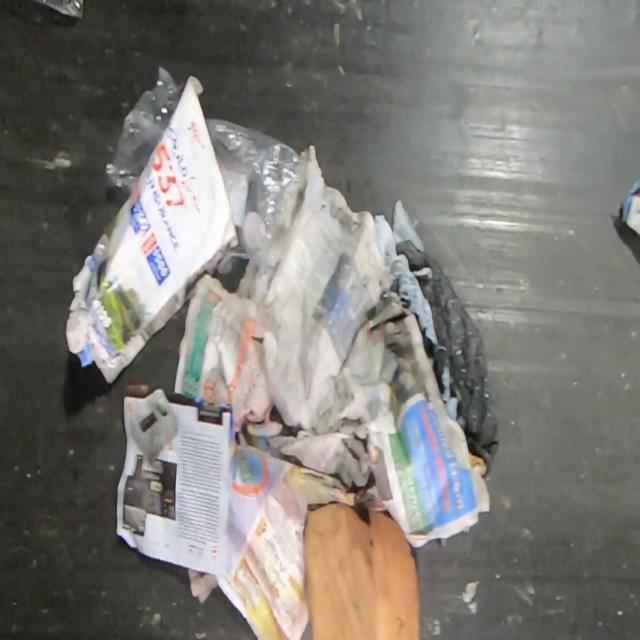cardboard: (64, 75, 246, 384), (303, 502, 421, 640)
soft_plastic: (396, 239, 499, 478), (204, 118, 304, 256), (105, 65, 183, 194), (374, 197, 437, 343), (440, 365, 459, 420), (35, 0, 83, 18)
